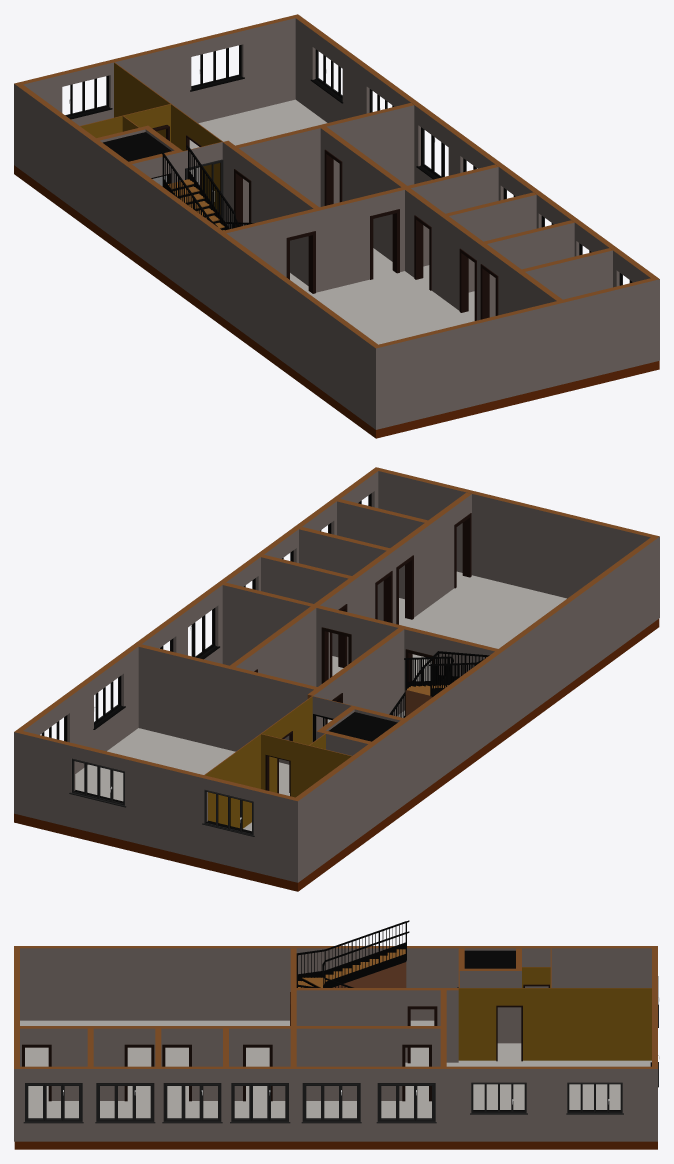
The model's file is Floor2.gltf.
The picture shows the model from 3 angles, top to bottom: view 1: azimuth 30°, elevation 25°; view 2: azimuth 150°, elevation 25°; view 3: azimuth 270°, elevation 25°; orthographic projection. The views are drawn at different scales.
Parts seen in each view (by area): view 1: Wall, Slab, Wall.001, Wall.007, Wall.002, Wall.006, Wall.008, Wall.009, Wall.004, Wall.005, Wall.003, Stair (+11 smaller); view 2: Wall, Slab, Wall.007, Wall.001, Wall.002, Wall.006, Wall.009, Wall.008, Wall.004, Wall.003, Wall.005, Stair (+8 smaller); view 3: Wall, Slab, Wall.009, Wall.002, Wall.008, Wall.006, Stair, Wall.010, Slab.001, Wall.001, Wall.007, Wall.012 (+9 smaller).
Part boxes in pixels (left/top/right/bottom): Wall: left=14, top=14, right=659, bottom=429; Slab: left=14, top=99, right=659, bottom=438; Wall.001: left=223, top=164, right=498, bottom=292; Wall.007: left=235, top=103, right=414, bottom=225; Wall.002: left=405, top=188, right=562, bottom=320; Wall.006: left=222, top=140, right=319, bottom=285; Wall.008: left=320, top=126, right=406, bottom=261; Wall.009: left=114, top=62, right=223, bottom=214; Wall.004: left=484, top=220, right=574, bottom=317; Wall.005: left=446, top=192, right=536, bottom=292; Wall.003: left=522, top=248, right=612, bottom=299; Stair: left=161, top=145, right=254, bottom=230; Wall: left=14, top=467, right=659, bottom=882; Slab: left=14, top=571, right=659, bottom=891; Wall.007: left=138, top=644, right=317, bottom=764; Wall.001: left=222, top=582, right=497, bottom=710; Wall.002: left=314, top=492, right=471, bottom=678; Wall.006: left=307, top=628, right=404, bottom=739; Wall.009: left=204, top=695, right=313, bottom=828; Wall.008: left=230, top=606, right=316, bottom=686; Wall.004: left=299, top=527, right=389, bottom=620; Wall.003: left=337, top=499, right=427, bottom=599; Wall.005: left=261, top=554, right=351, bottom=657; Stair: left=389, top=651, right=489, bottom=717; Wall: left=14, top=946, right=657, bottom=1141; Slab: left=14, top=1020, right=657, bottom=1149; Wall.009: left=458, top=988, right=651, bottom=1060; Wall.002: left=20, top=1026, right=290, bottom=1100; Wall.008: left=296, top=1026, right=440, bottom=1100; Wall.006: left=296, top=988, right=458, bottom=1062; Stair: left=296, top=920, right=409, bottom=987; Wall.010: left=458, top=948, right=521, bottom=1043; Slab.001: left=464, top=950, right=515, bottom=968; Wall.001: left=290, top=948, right=296, bottom=1066; Wall.007: left=440, top=990, right=446, bottom=1066; Wall.012: left=522, top=967, right=550, bottom=987.
Bounding box in the file's own units: 9.89 × 4.07 × 21.81.
